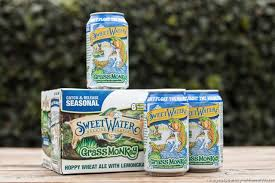can: (143, 89, 191, 174), (85, 11, 131, 89), (185, 89, 224, 174)
